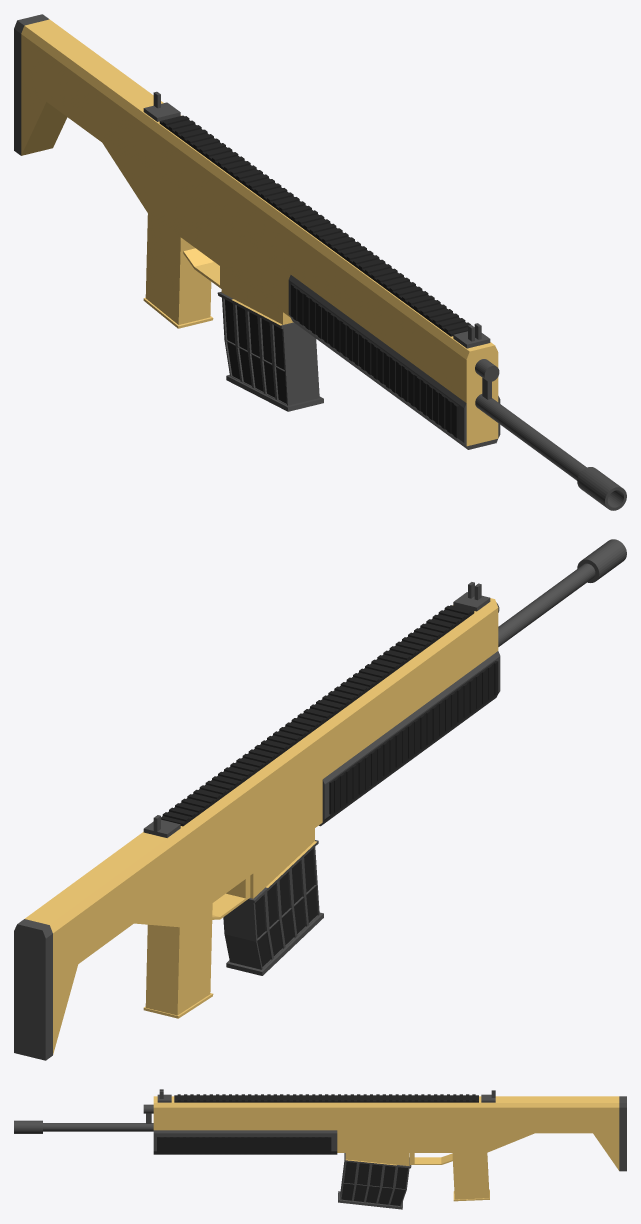
Rendered from Poly Bot Assault Rifle.fbx.
3 renders of one model, top to bottom at view 1: azimuth 30°, elevation 25°; view 2: azimuth 150°, elevation 25°; view 3: azimuth 270°, elevation 25°, orthographic. The views are drawn at different scales.
Visible parts, largest first — view 1: Cube; view 2: Cube; view 3: Cube.
Boxes of the visible parts, x1,y1,x2,y2 form: Cube: (14,14,626,510); Cube: (14,539,626,1060); Cube: (14,1089,626,1209).
Bounding box in the file's own units: 5.05 × 25.46 × 124.
